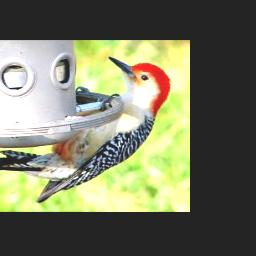Woodpecker: (0, 56, 171, 204)
